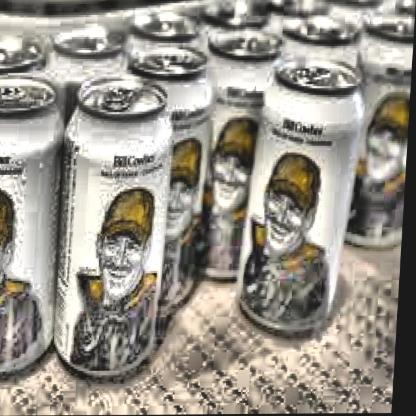Can: (53, 67, 180, 380), (230, 52, 368, 340), (0, 67, 66, 380)
